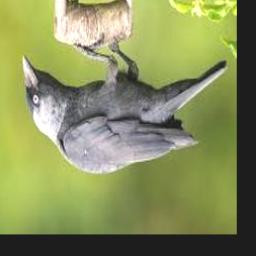Crow: (23, 35, 230, 175)
